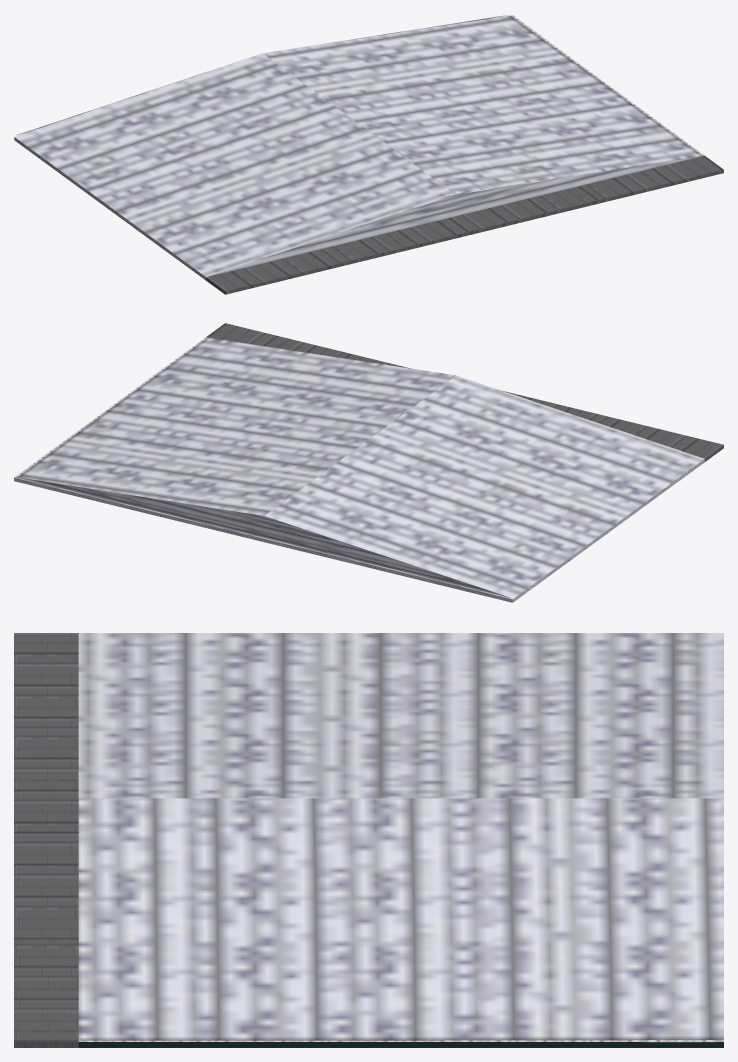
Rendered from Techo.obj.
3 renders of one model, top to bottom at view 1: azimuth 30°, elevation 25°; view 2: azimuth 150°, elevation 25°; view 3: azimuth 270°, elevation 25°, orthographic. The views are drawn at different scales.
Visible parts, largest first — view 1: Tejas, Techo, plane; view 2: Tejas, Techo, plane; view 3: Tejas, Techo.
Part boxes in pixels (x1=…): Tejas: x1=14, y1=15, x2=701, y2=277; Techo: x1=14, y1=15, x2=723, y2=294; plane: x1=16, y1=14, x2=703, y2=276; Tejas: x1=17, y1=338, x2=704, y2=599; Techo: x1=14, y1=323, x2=723, y2=602; plane: x1=16, y1=337, x2=510, y2=597; Tejas: x1=78, y1=633, x2=723, y2=1040; Techo: x1=14, y1=633, x2=723, y2=1047.
Bounding box in the file's own units: 18.76 × 0.9421 × 13.75.
Materials: 1 (1 with a texture image).
